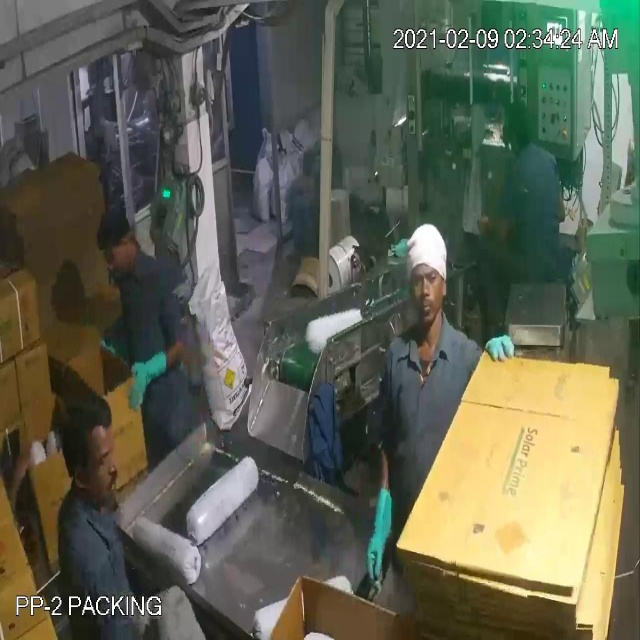Guantes: (355, 470, 403, 592), (110, 342, 183, 412), (479, 324, 522, 371)
